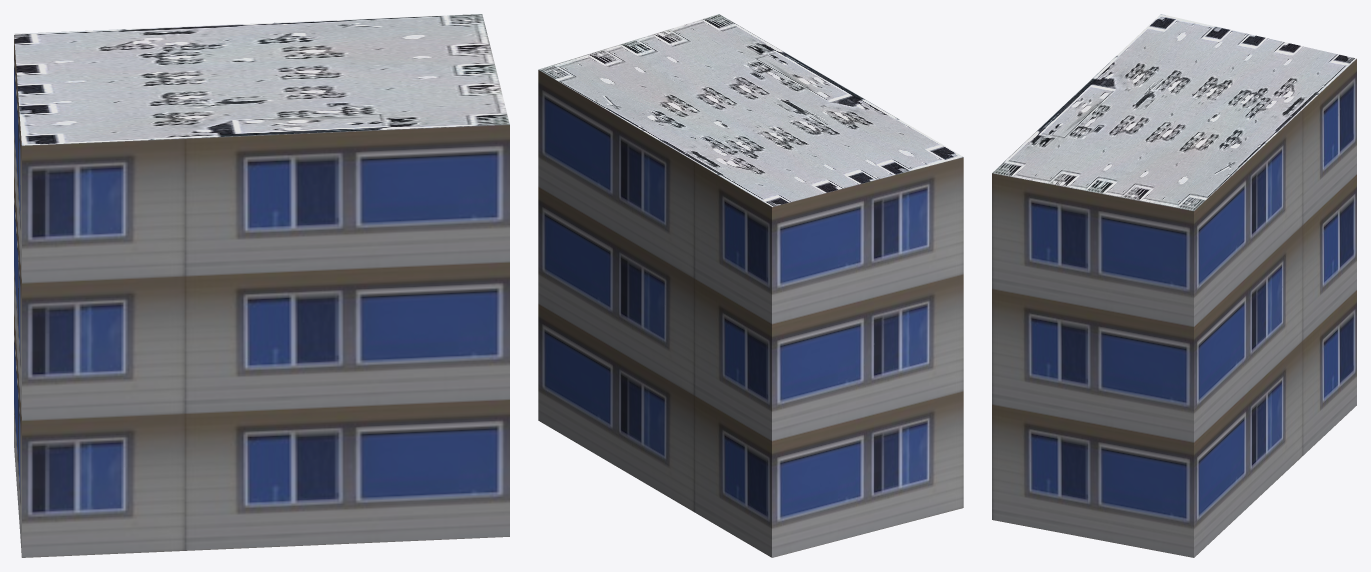
The model's file is ResTex__1052.fbx.
3 renders of one model, left to right at view 1: azimuth 30°, elevation 25°; view 2: azimuth 150°, elevation 25°; view 3: azimuth 270°, elevation 25°, orthographic. The views are drawn at different scales.
Parts seen in each view (by area): view 1: CityEngineMaterial_23_m, CityEngineMaterial_8_m; view 2: CityEngineMaterial_23_m, CityEngineMaterial_8_m; view 3: CityEngineMaterial_23_m, CityEngineMaterial_8_m.
Boxes of the visible parts, <box> form: CityEngineMaterial_23_m: <box>14,36,509,557</box>; CityEngineMaterial_8_m: <box>14,14,509,145</box>; CityEngineMaterial_23_m: <box>538,70,963,557</box>; CityEngineMaterial_8_m: <box>538,14,962,206</box>; CityEngineMaterial_23_m: <box>992,59,1356,557</box>; CityEngineMaterial_8_m: <box>992,14,1356,210</box>.
Bounding box in the file's own units: 10.97 × 9 × 8.58.
Materials: 2 (2 with a texture image).
